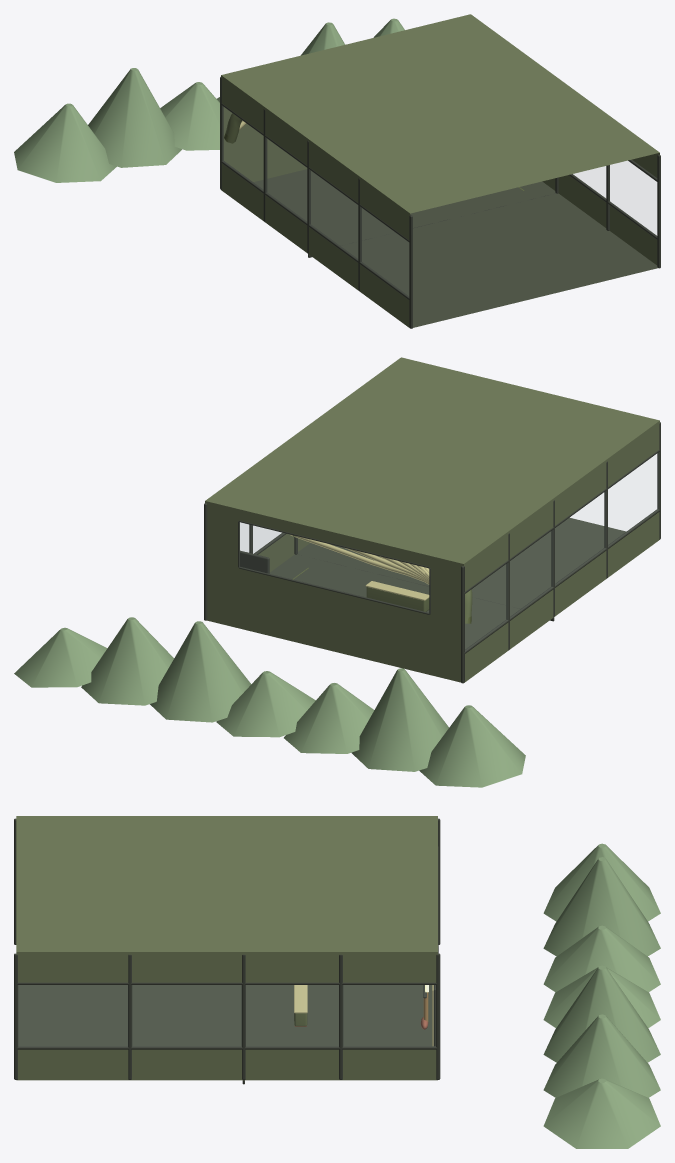
File: garage.glb
3 renders of one model, top to bottom at view 1: azimuth 30°, elevation 25°; view 2: azimuth 150°, elevation 25°; view 3: azimuth 270°, elevation 25°, orthographic. The views are drawn at different scales.
Visible parts, largest first — view 1: Roof panels - Wall, Floor extension - Floor, Outside the glazing - Glass rim, Port wall - Wall, Floor - Floor, Port wall - Rib, Starboard wall - Wall, Rear bulkhead - Wall, Starboard wall - Rib; view 2: Roof panels - Wall, Outside the glazing - Glass rim, Rear bulkhead - Wall, Port wall - Wall, Floor extension - Floor, Floor - Floor, Port wall - Rib, Signature architecture - Pale, Rear bulkhead - Rib, Starboard wall - Wall, Starboard wall - Rib, Counter - Secondary; view 3: Roof panels - Wall, Outside the glazing - Glass rim, Starboard wall - Wall, Floor extension - Floor, Floor - Floor, Starboard wall - Rib, Port wall - Rib.
Boxes of the visible parts, left/top/right/bottom form: Roof panels - Wall: left=221, top=14, right=659, bottom=213; Floor extension - Floor: left=341, top=193, right=657, bottom=327; Outside the glazing - Glass rim: left=14, top=18, right=404, bottom=182; Port wall - Wall: left=221, top=75, right=410, bottom=327; Floor - Floor: left=253, top=169, right=555, bottom=245; Port wall - Rib: left=220, top=77, right=412, bottom=328; Starboard wall - Wall: left=542, top=153, right=659, bottom=265; Rear bulkhead - Wall: left=223, top=107, right=307, bottom=181; Starboard wall - Rib: left=555, top=154, right=660, bottom=268; Roof panels - Wall: left=205, top=357, right=659, bottom=563; Outside the glazing - Glass rim: left=14, top=617, right=525, bottom=787; Rear bulkhead - Wall: left=205, top=501, right=463, bottom=682; Port wall - Wall: left=464, top=421, right=659, bottom=682; Floor extension - Floor: left=297, top=517, right=626, bottom=608; Floor - Floor: left=269, top=554, right=519, bottom=649; Port wall - Rib: left=461, top=422, right=660, bottom=683; Signature architecture - Pale: left=290, top=534, right=429, bottom=584; Rear bulkhead - Rib: left=238, top=520, right=430, bottom=614; Starboard wall - Wall: left=258, top=534, right=310, bottom=572; Starboard wall - Rib: left=204, top=503, right=297, bottom=620; Counter - Secondary: left=366, top=587, right=429, bottom=611; Roof panels - Wall: left=16, top=816, right=437, bottom=951; Outside the glazing - Glass rim: left=543, top=843, right=660, bottom=1148; Starboard wall - Wall: left=16, top=952, right=437, bottom=1080; Floor extension - Floor: left=18, top=985, right=241, bottom=1046; Floor - Floor: left=246, top=985, right=431, bottom=1046; Starboard wall - Rib: left=14, top=953, right=440, bottom=1079; Port wall - Rib: left=14, top=818, right=440, bottom=944.
Bounding box in the file's own units: 36.79 × 9.43 × 38.64.
